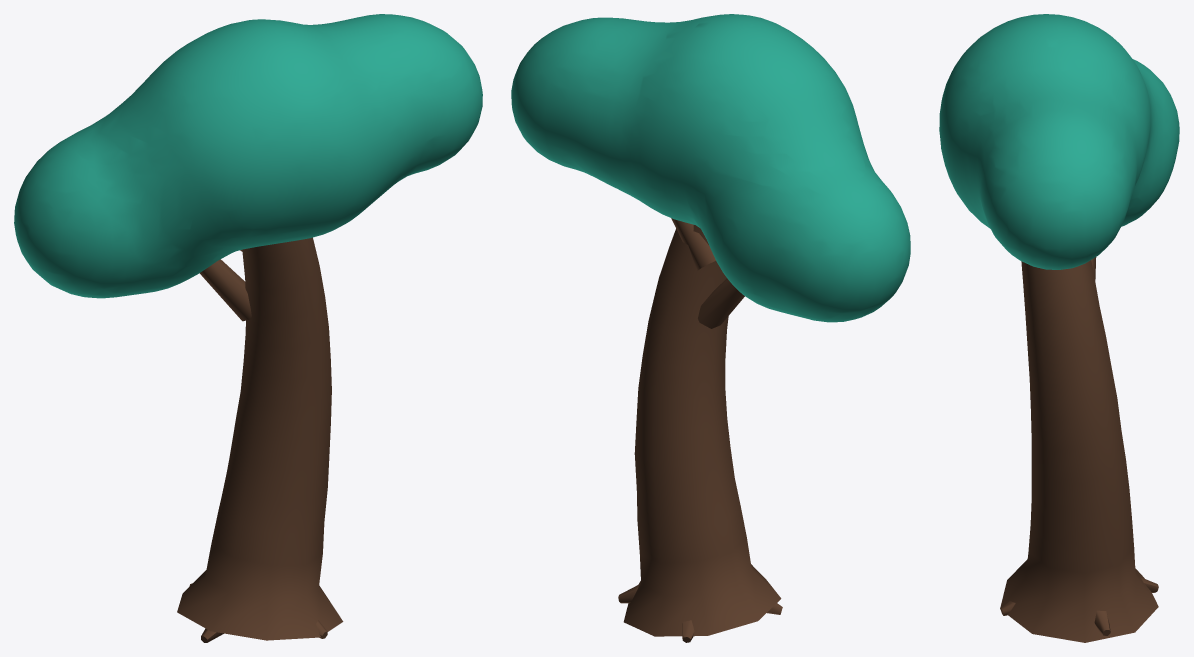
Rendered from ArbolMutanteA.fbx.
The picture shows the model from 3 angles, left to right: view 1: azimuth 30°, elevation 25°; view 2: azimuth 150°, elevation 25°; view 3: azimuth 270°, elevation 25°; orthographic projection. The views are drawn at different scales.
Visible parts, largest first — view 1: ArbolMutanteA_Copas, ArbolMutanteA_Tronco; view 2: ArbolMutanteA_Copas, ArbolMutanteA_Tronco; view 3: ArbolMutanteA_Copas, ArbolMutanteA_Tronco.
Boxes of the visible parts, box(x1,y1,x2,y2) form: ArbolMutanteA_Copas: box(14, 14, 482, 298); ArbolMutanteA_Tronco: box(177, 237, 343, 642); ArbolMutanteA_Copas: box(511, 14, 910, 322); ArbolMutanteA_Tronco: box(618, 218, 782, 642); ArbolMutanteA_Copas: box(939, 14, 1179, 269); ArbolMutanteA_Tronco: box(1000, 257, 1158, 642).
Size of the model in its own units: 15.98 by 21.95 by 8.28.
